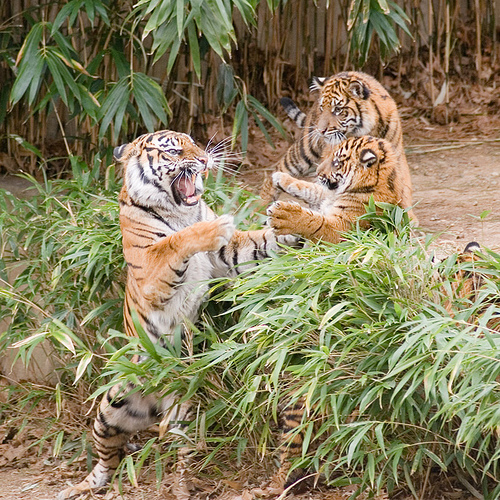Tigre: (93, 131, 242, 396), (274, 133, 404, 254), (282, 58, 414, 163)
